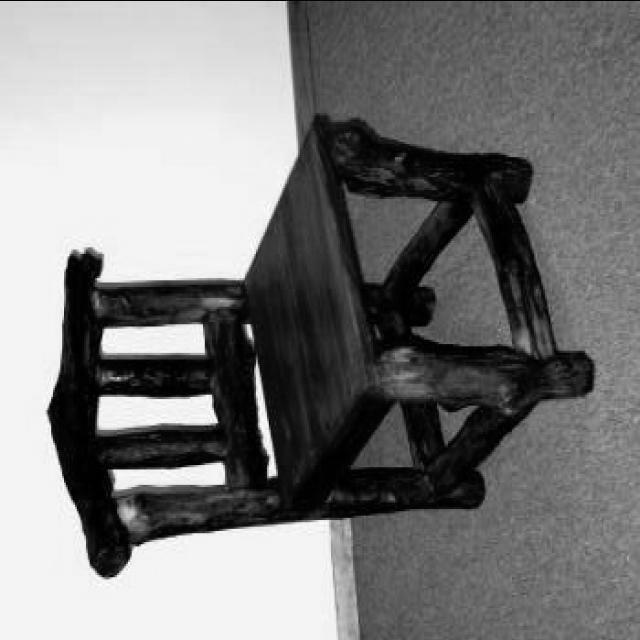chair: (44, 110, 594, 581)
